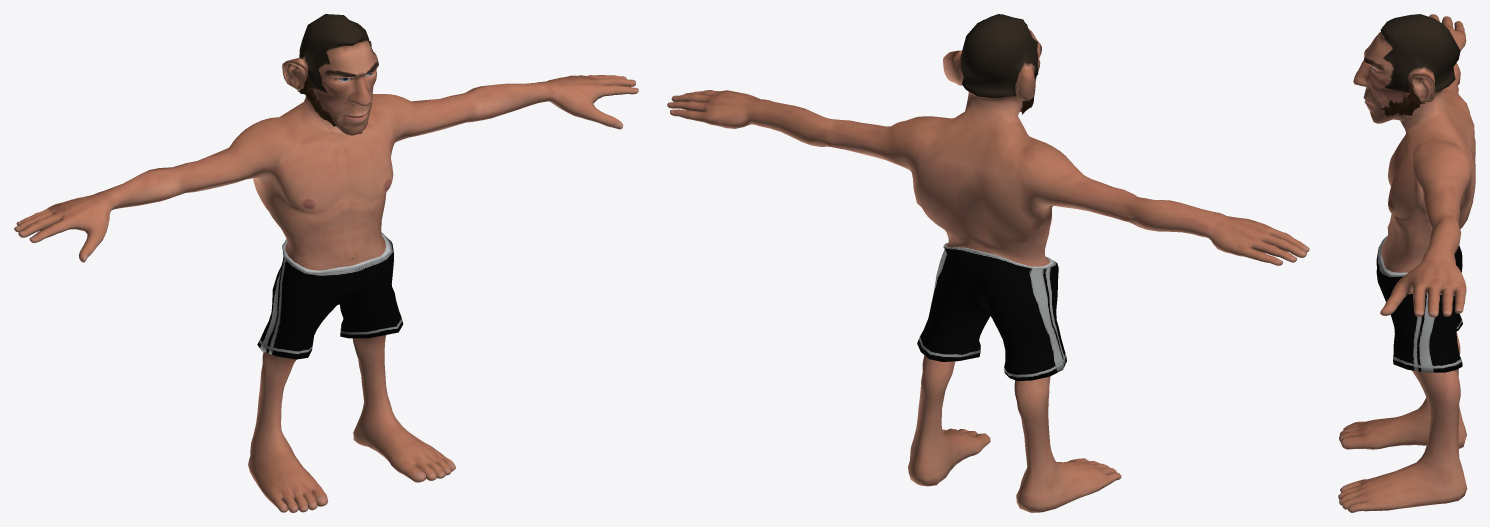
The model's file is monkeyMan.obj.
The picture shows the model from 3 angles, left to right: view 1: azimuth 30°, elevation 25°; view 2: azimuth 150°, elevation 25°; view 3: azimuth 270°, elevation 25°; orthographic projection. The views are drawn at different scales.
Parts seen in each view (by area): view 1: Body, Bottoms; view 2: Body, Bottoms; view 3: Body, Bottoms, Beards.
Part boxes in pixels (bbox=[...]): Body: bbox=[14, 14, 638, 512]; Bottoms: bbox=[257, 233, 403, 359]; Body: bbox=[667, 14, 1309, 512]; Bottoms: bbox=[917, 243, 1066, 380]; Body: bbox=[1338, 14, 1475, 512]; Bottoms: bbox=[1376, 236, 1462, 372]; Beards: bbox=[1381, 78, 1424, 116].
Bounding box in the file's own units: 207 × 146 × 39.78.
3 materials, 3 textured.
